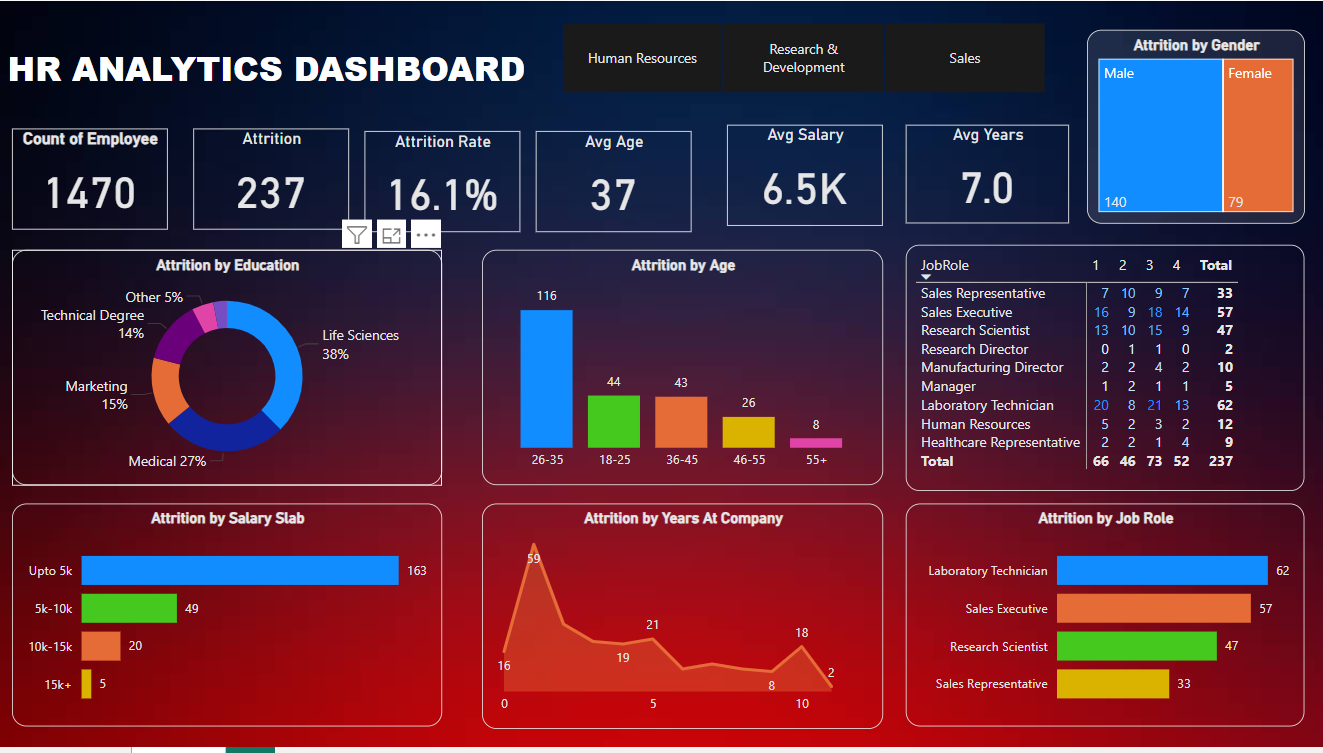

Layout of this report page (visuals, bound fields, positions):
{"tool":"powerbi","page":{"name":"Page 1","canvas":[1280,720],"ordinal":0},"visuals":[{"type":"card","title":"Count of Employee","fields":{"Values":["CountNonNull(HR_Analytics.EmpID)"]},"box":[15,122.5,150,97.5],"z":0},{"type":"card","title":"Attrition","fields":{"Values":["Sum(HR_Analytics.AttritionCount)"]},"box":[190,122.5,150,97.5],"z":1000},{"type":"card","title":"Attrition Rate","fields":{"Values":["HR_Analytics.AttritionRate"]},"box":[355,125,150,97.5],"z":2000},{"type":"card","title":"Avg Age","fields":{"Values":["Avg(HR_Analytics.Age)"]},"box":[520,125,150,97.5],"z":3000},{"type":"card","title":"Avg Salary","fields":{"Values":["Avg(HR_Analytics.MonthlyIncome)"]},"box":[705,120,150,97.5],"z":4000},{"type":"card","title":"Avg Years","fields":{"Values":["Avg(HR_Analytics.YearsAtCompany)"]},"box":[877.5,120,157.5,95],"z":5000},{"type":"donutChart","title":"Attrition by Education","fields":{"Category":["HR_Analytics.EducationField"],"Y":["Sum(HR_Analytics.AttritionCount)"]},"box":[15,240,415,227.5],"z":6000},{"type":"columnChart","title":"Attrition by Age","fields":{"Category":["HR_Analytics.AgeGroup"],"Y":["Sum(HR_Analytics.AttritionCount)"]},"box":[467.5,240,387.5,227.5],"z":7000},{"type":"pivotTable","fields":{"Rows":["HR_Analytics.JobRole"],"Columns":["HR_Analytics.JobSatisfaction"],"Values":["Sum(HR_Analytics.AttritionCount)"]},"box":[877.5,235,385,237.5],"z":8000},{"type":"barChart","title":"Attrition by Salary Slab","fields":{"Category":["HR_Analytics.SalarySlab"],"Y":["Sum(HR_Analytics.AttritionCount)"]},"box":[15,485,415,215],"z":9000},{"type":"barChart","title":"Attrition by Job Role","fields":{"Category":["HR_Analytics.JobRole"],"Y":["Sum(HR_Analytics.AttritionCount)"]},"box":[877.5,485,385,215],"z":10000},{"type":"treemap","title":"Attrition by Gender","fields":{"Group":["HR_Analytics.Gender"],"Values":["Sum(HR_Analytics.AttritionCount)"]},"box":[1052.5,27.5,210,187.5],"z":11000},{"type":"areaChart","title":"Attrition by Years At Company","fields":{"Category":["HR_Analytics.YearsAtCompany"],"Y":["Sum(HR_Analytics.AttritionCount)"]},"box":[467.5,485,387.5,217.5],"z":12000},{"type":"slicer","fields":{"Values":["HR_Analytics.Department"]},"box":[520,14.5,515.2,80.8],"z":13000},{"type":"textbox","box":[0,37.4,520,68.8],"z":14000}]}

Visuals, with their boxes in screenshot pixels (x1, y1, x2, y2), scaled from the page's 1280x720 canvas onto the 1323x753 screenshot:
"Count of Employee" card: l=16, t=128, r=171, b=230
"Attrition" card: l=196, t=128, r=351, b=230
"Attrition Rate" card: l=367, t=131, r=522, b=233
"Avg Age" card: l=537, t=131, r=693, b=233
"Avg Salary" card: l=729, t=126, r=884, b=227
"Avg Years" card: l=907, t=126, r=1070, b=225
"Attrition by Education" donutChart: l=16, t=251, r=444, b=489
"Attrition by Age" columnChart: l=483, t=251, r=884, b=489
pivotTable - HR_Analytics.JobRole x HR_Analytics.JobSatisfaction: l=907, t=246, r=1305, b=494
"Attrition by Salary Slab" barChart: l=16, t=507, r=444, b=732
"Attrition by Job Role" barChart: l=907, t=507, r=1305, b=732
"Attrition by Gender" treemap: l=1088, t=29, r=1305, b=225
"Attrition by Years At Company" areaChart: l=483, t=507, r=884, b=735
slicer - HR_Analytics.Department: l=537, t=15, r=1070, b=100
textbox: l=0, t=39, r=537, b=111
